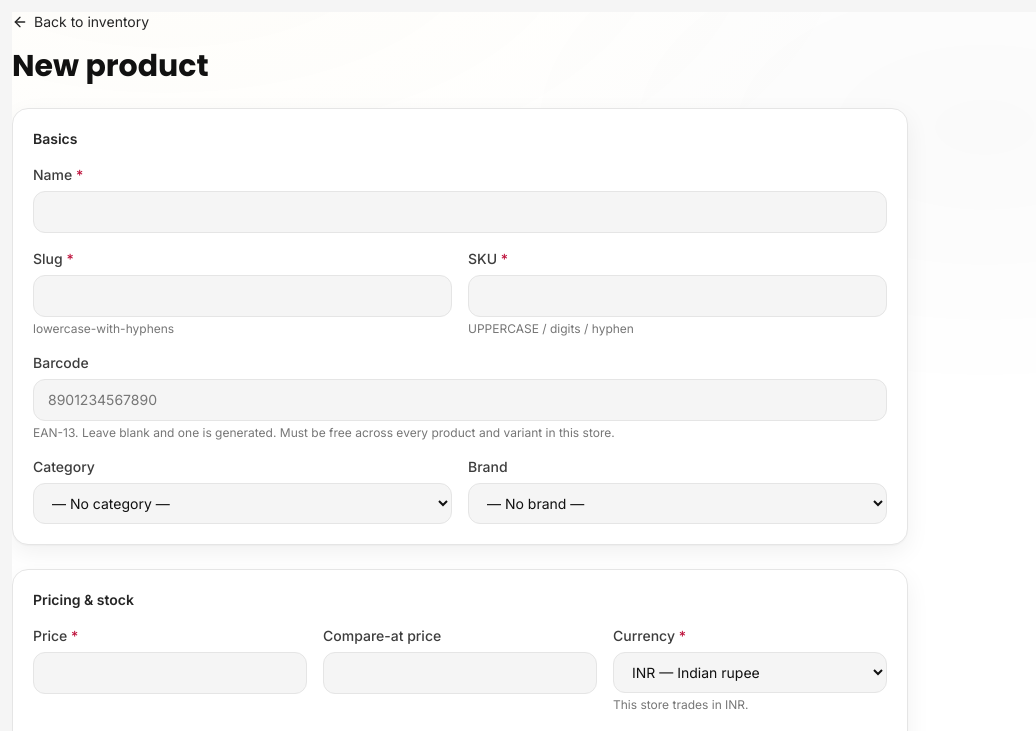
Admin ProductForm — messy names › still spots the duplicate when the typed name has a doubled space
Type "Signet  Ring" into the field named "Product name" at [460, 212], box [33, 191, 887, 233]
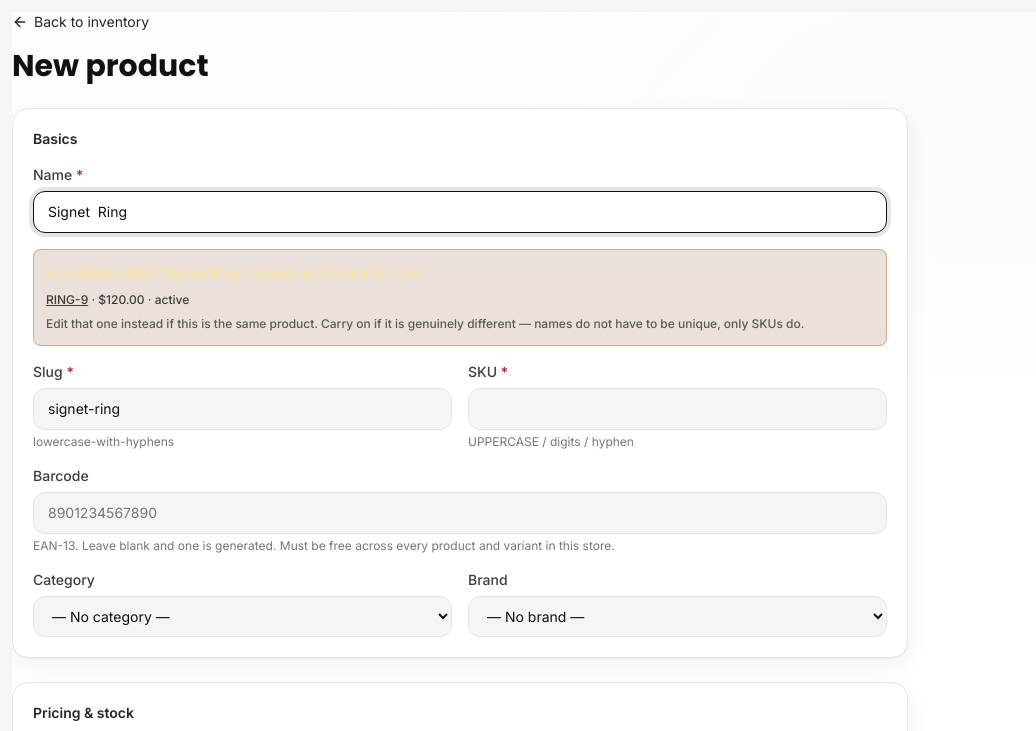
expect the text "A product called “Signet Ring” already exists in this store." is shown: met, box [46, 264, 426, 281]
